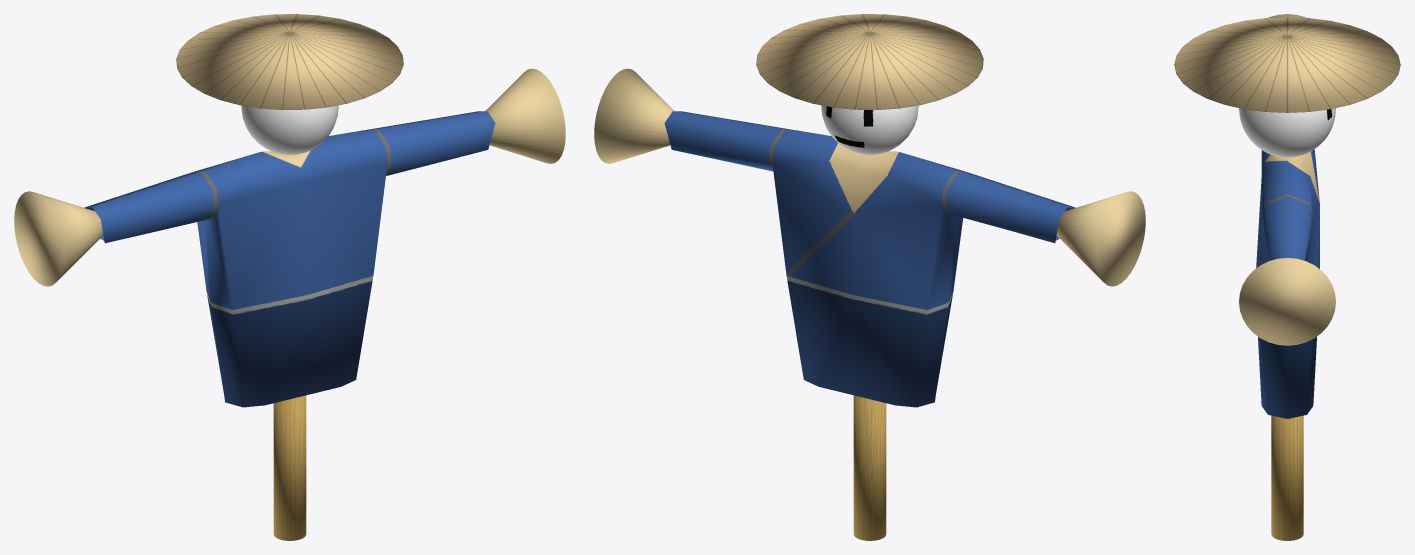
Rendered from Kakashi.fbx.
3 views of the same model, side by side, from view 1: azimuth 30°, elevation 25°; view 2: azimuth 150°, elevation 25°; view 3: azimuth 270°, elevation 25° (orthographic).
Parts seen in each view (by area): view 1: Body, Hat, Hand_R.001, Hand_R, Stick, Head; view 2: Body, Hat, Hand_R.001, Hand_R, Stick, Head; view 3: Hat, Body, Hand_R, Stick, Head.
Boxes of the visible parts, x1,y1,x2,y2 form: Body: (84, 111, 495, 407); Hat: (176, 14, 403, 109); Hand_R.001: (14, 191, 103, 286); Hand_R: (485, 68, 565, 163); Stick: (273, 395, 306, 540); Head: (241, 105, 338, 154); Body: (664, 111, 1075, 407); Hat: (756, 14, 983, 109); Hand_R.001: (1056, 191, 1145, 286); Hand_R: (594, 68, 674, 163); Stick: (853, 395, 886, 540); Head: (821, 105, 918, 154); Hat: (1174, 17, 1400, 112); Body: (1256, 149, 1319, 418); Hand_R: (1239, 258, 1335, 345); Stick: (1271, 415, 1303, 540); Head: (1239, 108, 1335, 157).
Size of the model in its own units: 178 by 170 by 70.
5 materials, 4 textured.
